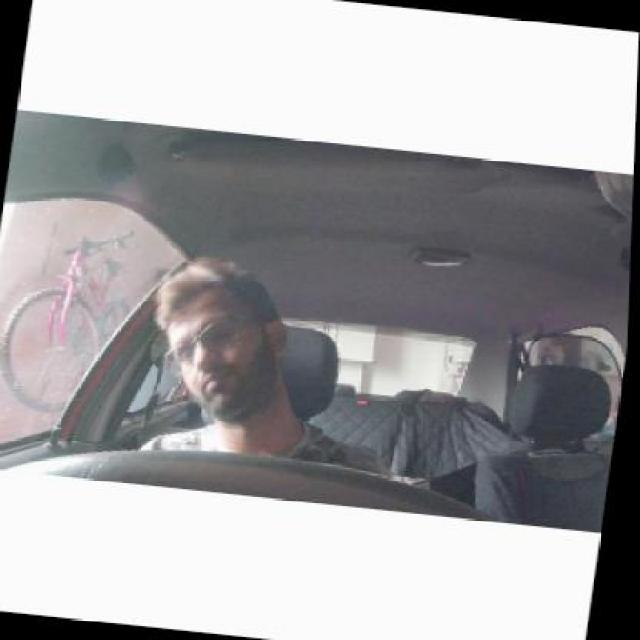drowsy: (150, 250, 293, 426)
